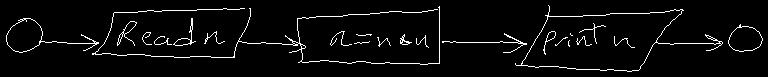arrow: (442, 33, 526, 52), (239, 35, 305, 52), (655, 34, 722, 50), (39, 34, 98, 50)
connection: (6, 18, 42, 52), (728, 24, 762, 51)
data: (515, 5, 683, 71), (92, 8, 250, 57)
process: (297, 6, 439, 64)
text: (117, 18, 224, 45), (543, 23, 634, 54), (330, 31, 428, 47)
